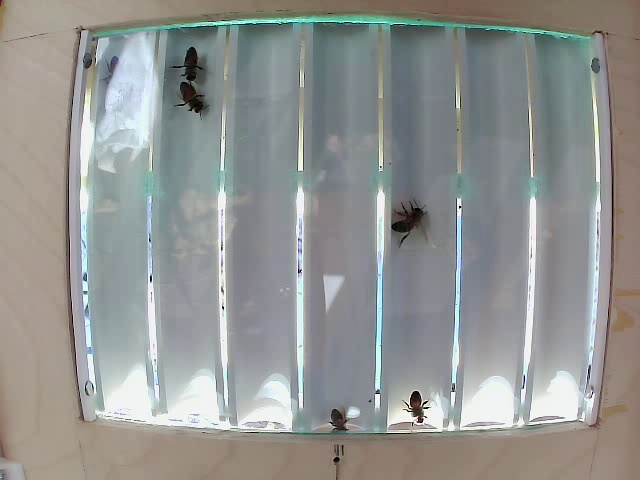bee: (380, 191, 432, 244), (167, 80, 210, 127), (174, 43, 218, 79)
